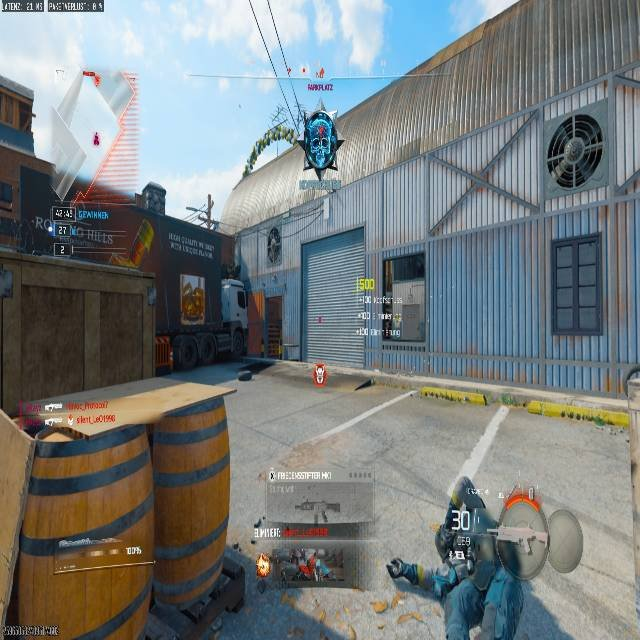player: (300, 106, 341, 178)
